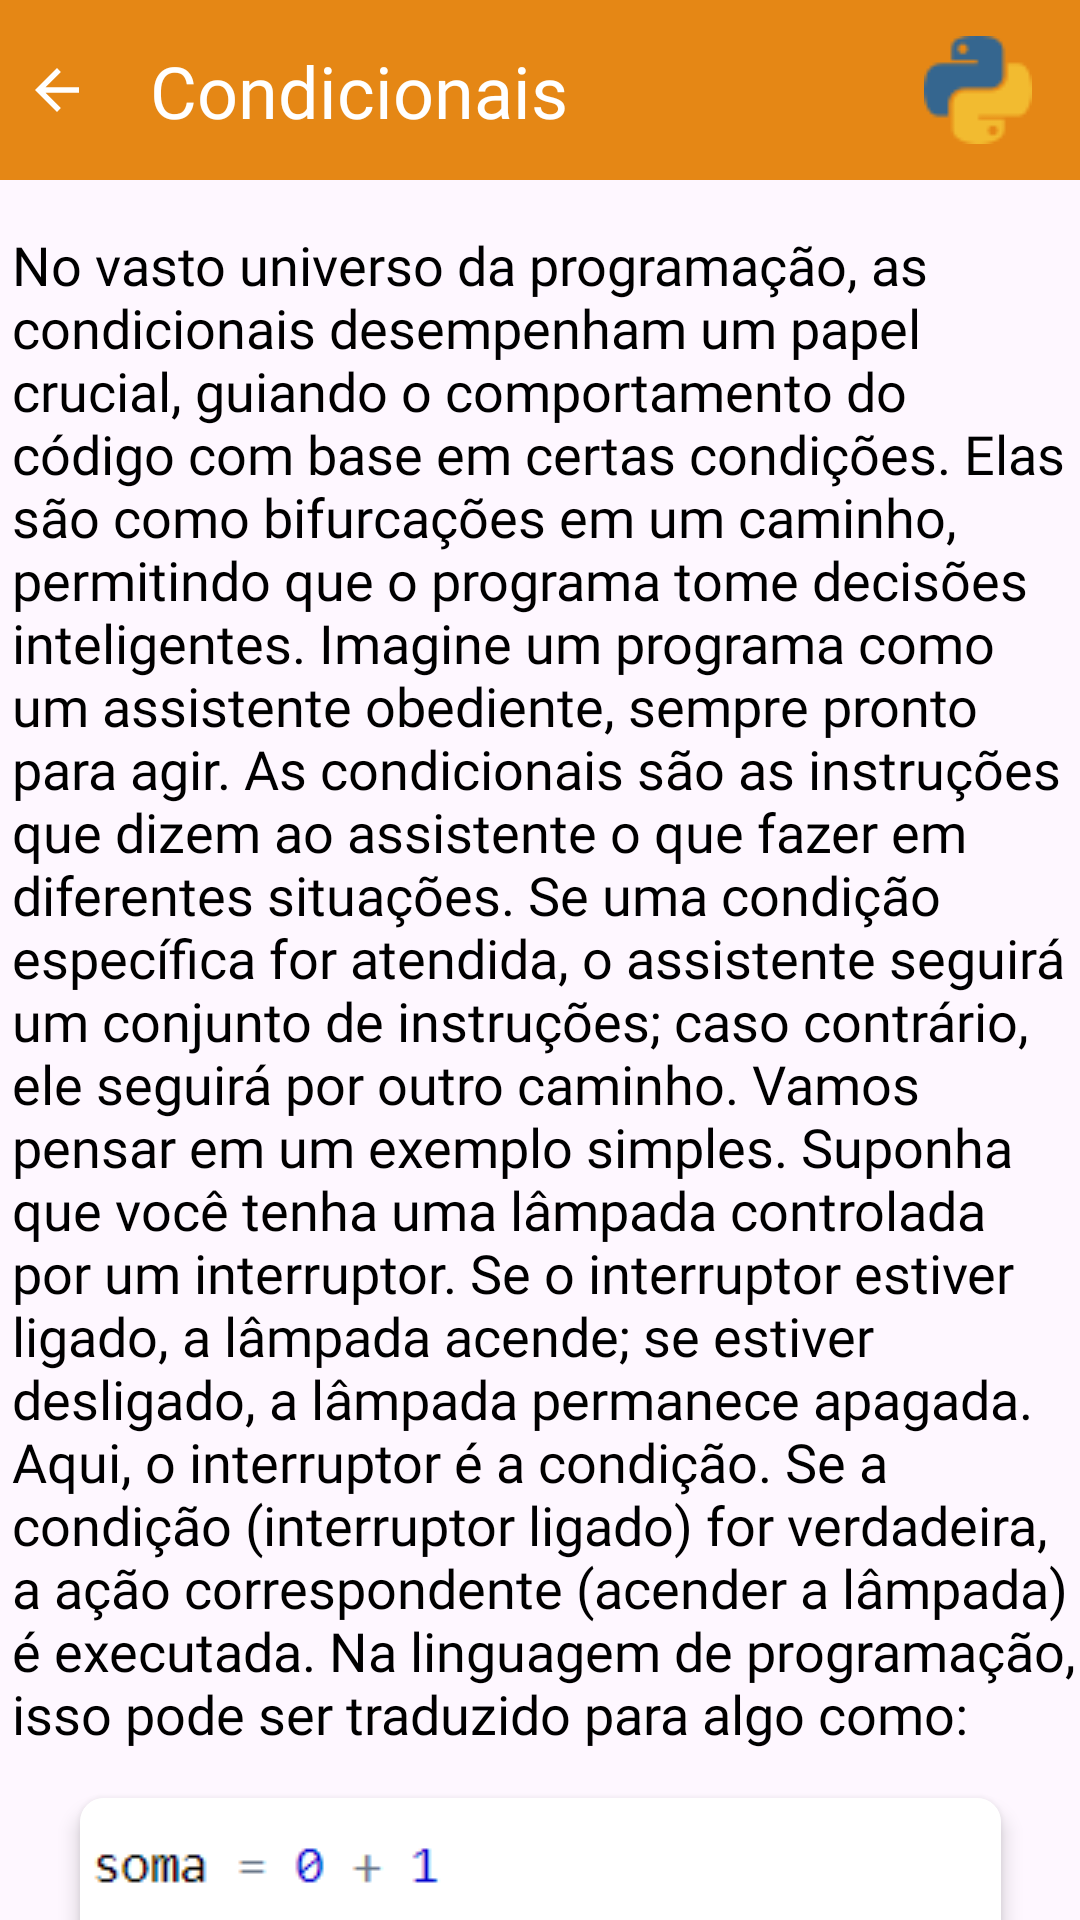

Where icons sit on this 1080x1920 app screen, as (x1, y1, x2, y2):
arrow back: (35, 68, 79, 112)
